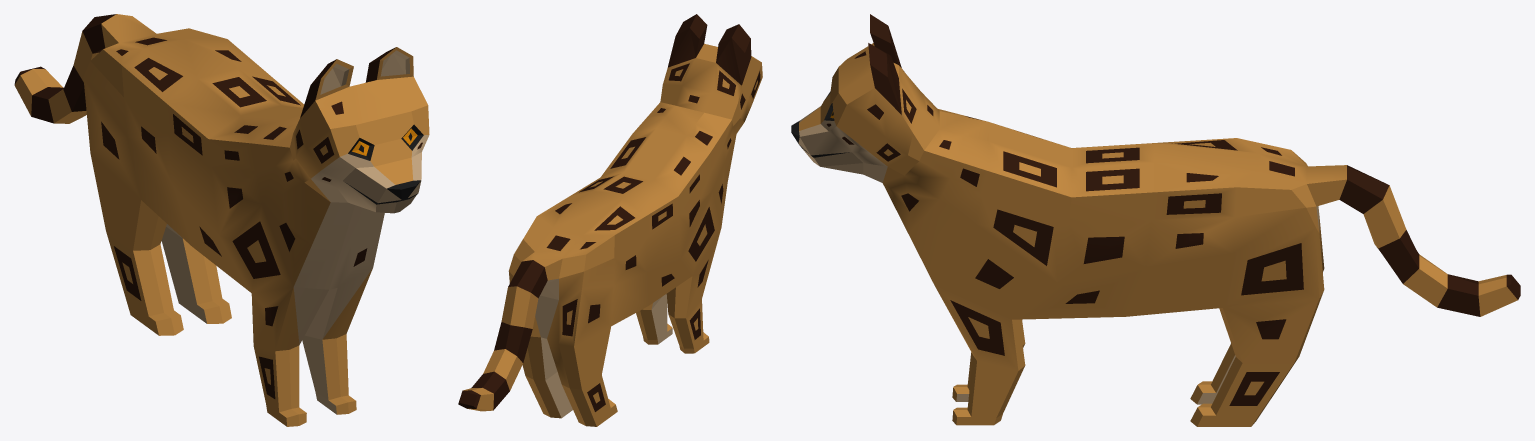
Rendered from Leopard_01.fbx.
The picture shows the model from 3 angles, left to right: view 1: azimuth 30°, elevation 25°; view 2: azimuth 150°, elevation 25°; view 3: azimuth 270°, elevation 25°; orthographic projection. The views are drawn at different scales.
Parts seen in each view (by area): view 1: Leopard_01; view 2: Leopard_01; view 3: Leopard_01.
Boxes of the visible parts, bbox=[...] form: Leopard_01: bbox=[14, 14, 429, 426]; Leopard_01: bbox=[458, 14, 762, 426]; Leopard_01: bbox=[791, 14, 1520, 426].
Size of the model in its own units: 2.85 by 10.28 by 17.8.
